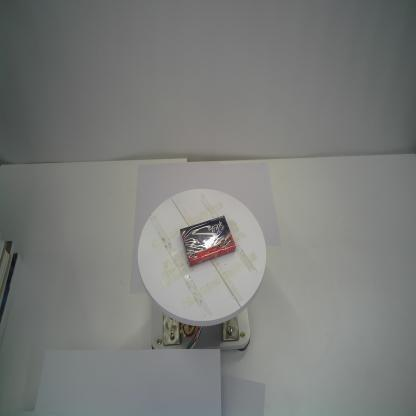Gum: (178, 214, 236, 269)
